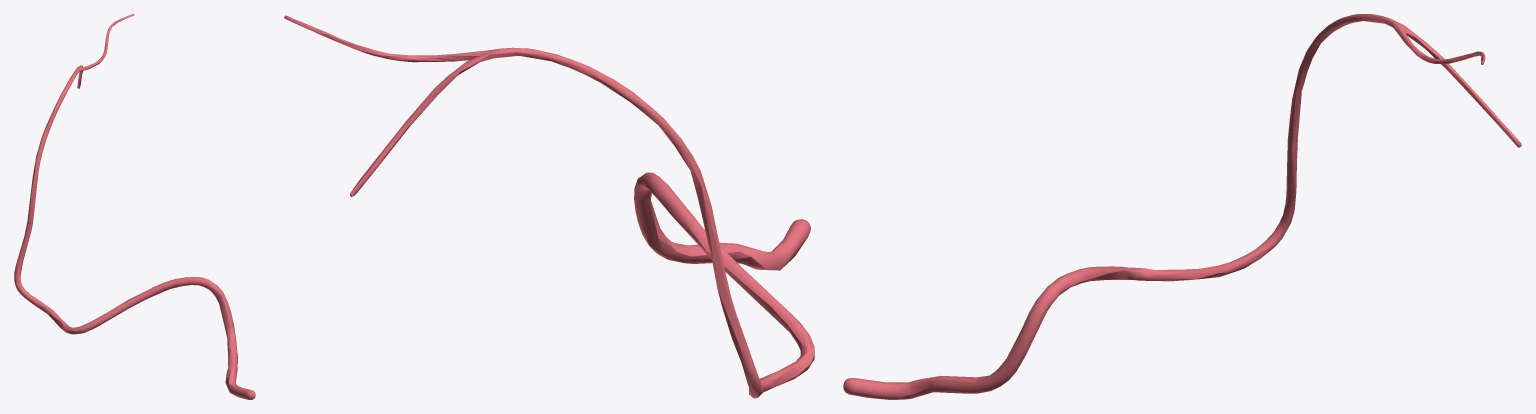
File: fma50489_fj5167.glb
The picture shows the model from 3 angles, left to right: view 1: azimuth 30°, elevation 25°; view 2: azimuth 150°, elevation 25°; view 3: azimuth 270°, elevation 25°; orthographic projection. The views are drawn at different scales.
Parts seen in each view (by area): view 1: FMA50489_FJ5167; view 2: FMA50489_FJ5167; view 3: FMA50489_FJ5167.
Boxes of the visible parts, x1,y1,x2,y2 form: FMA50489_FJ5167: (14,14,255,399); FMA50489_FJ5167: (284,15,814,398); FMA50489_FJ5167: (843,14,1521,399).
Bounding box in the file's own units: 0.0381 × 0.0481 × 0.0746.
